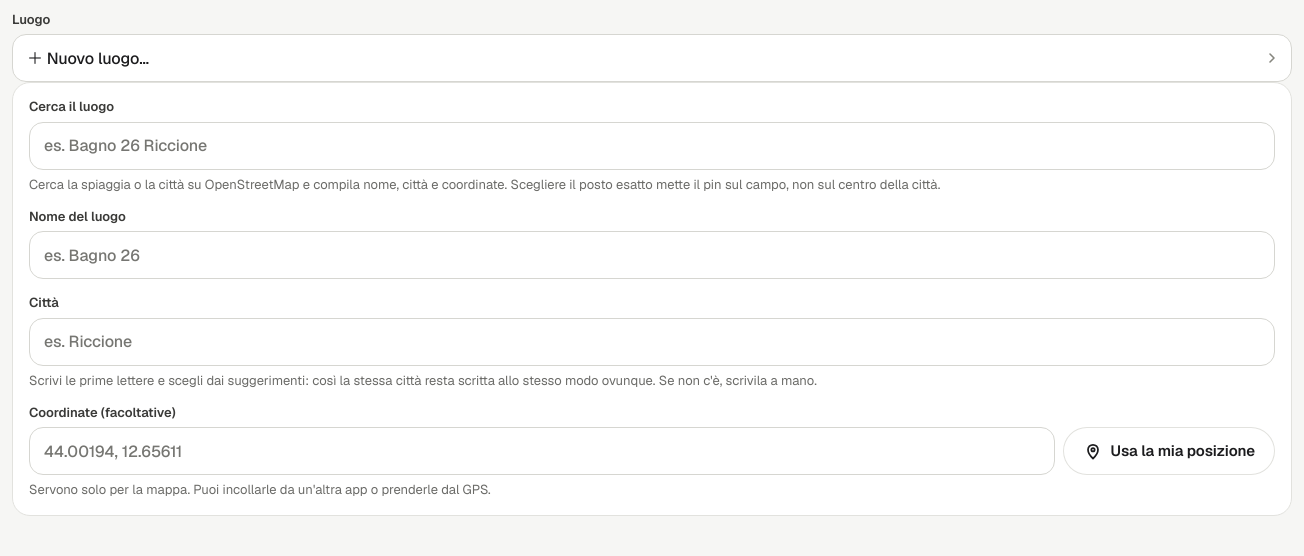
Scenario: VenuePicker — quando la ricerca non funziona › un guasto non blocca il form: restano GPS e campi a mano
The image size is (1304, 556).
Step 1. Type "r" into the search field labelled "Cerca il luogo" → (652, 146), box x1=29 y1=122 x2=1275 y2=170
Step 2. Replace the text in the search field labelled "Cerca il luogo" with "ri" → (652, 146), box x1=29 y1=122 x2=1275 y2=170
Step 3. Replace the text in the search field labelled "Cerca il luogo" with "ric" → (652, 146), box x1=29 y1=122 x2=1275 y2=170
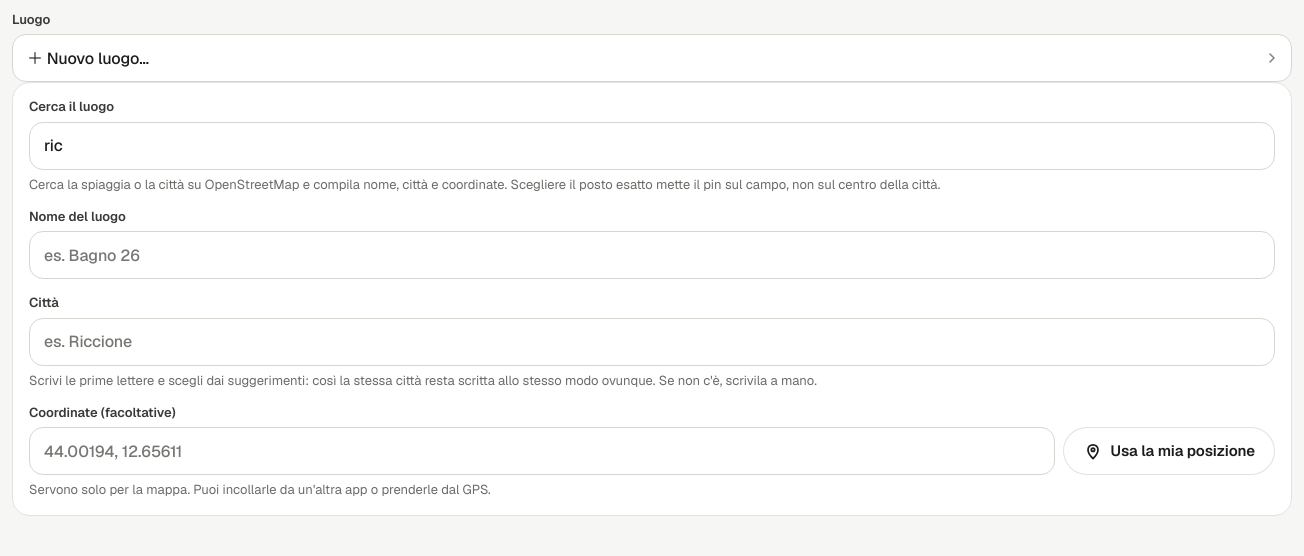
Step 4. Replace the text in the search field labelled "Cerca il luogo" with "ricc" → (652, 146), box x1=29 y1=122 x2=1275 y2=170
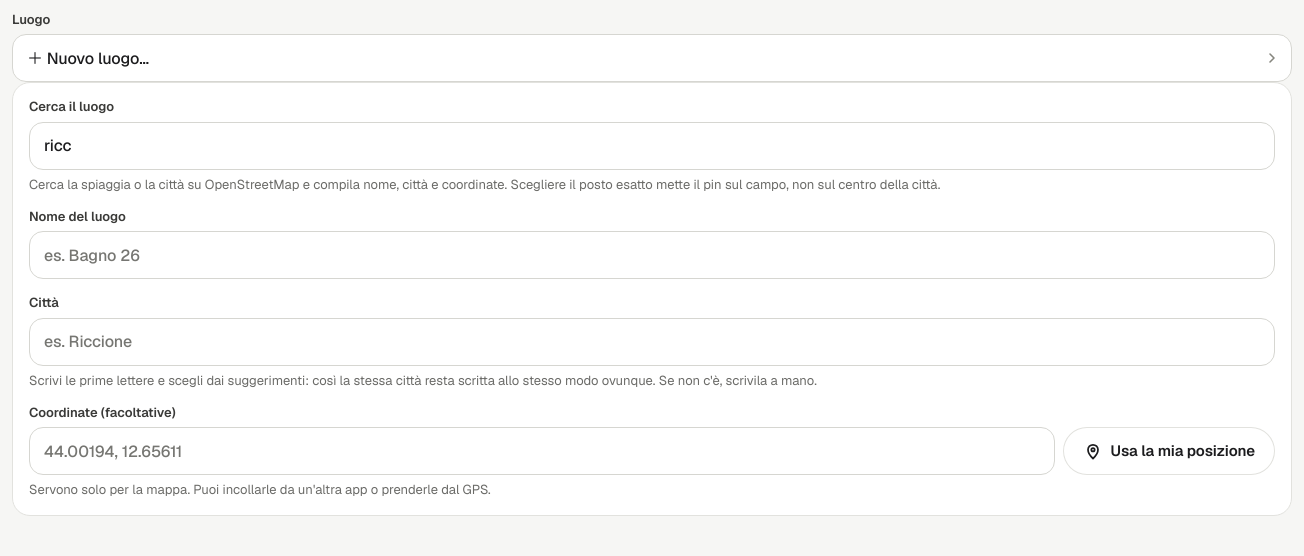
Step 5. Replace the text in the search field labelled "Cerca il luogo" with "ricci" → (652, 146), box x1=29 y1=122 x2=1275 y2=170
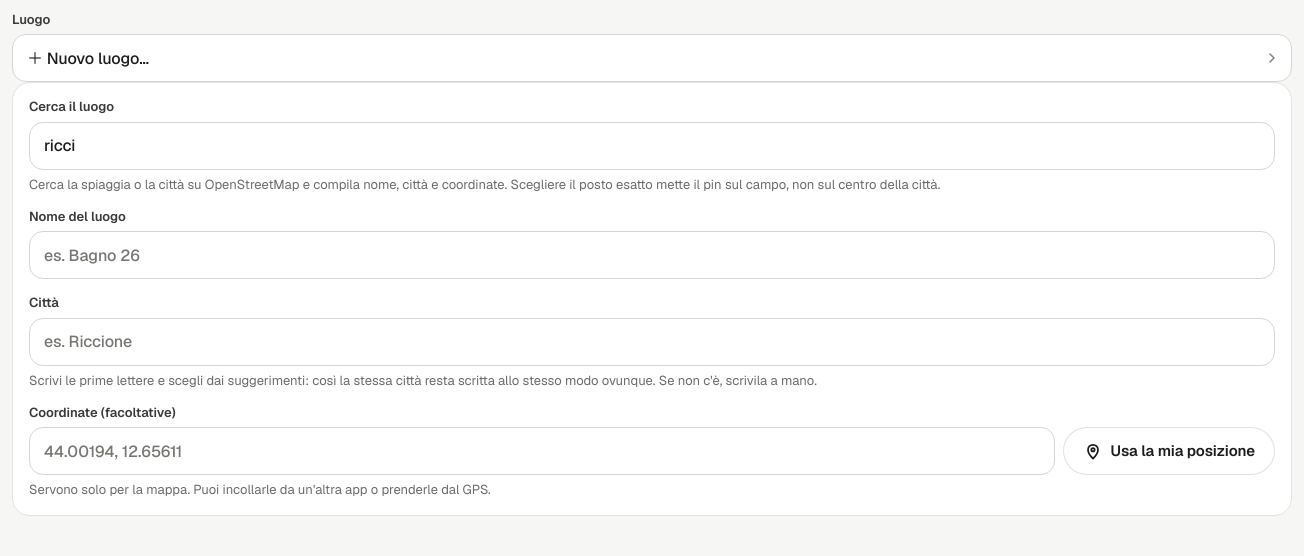
Step 6. Replace the text in the search field labelled "Cerca il luogo" with "riccio" → (652, 146), box x1=29 y1=122 x2=1275 y2=170
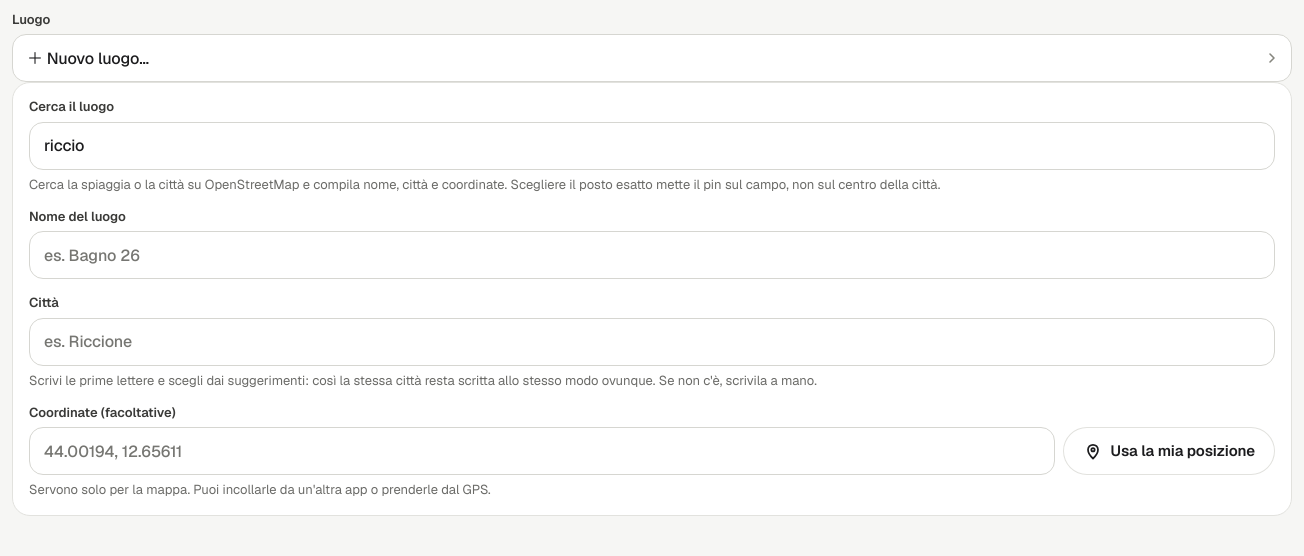
Step 7. Replace the text in the search field labelled "Cerca il luogo" with "riccion" → (652, 146), box x1=29 y1=122 x2=1275 y2=170
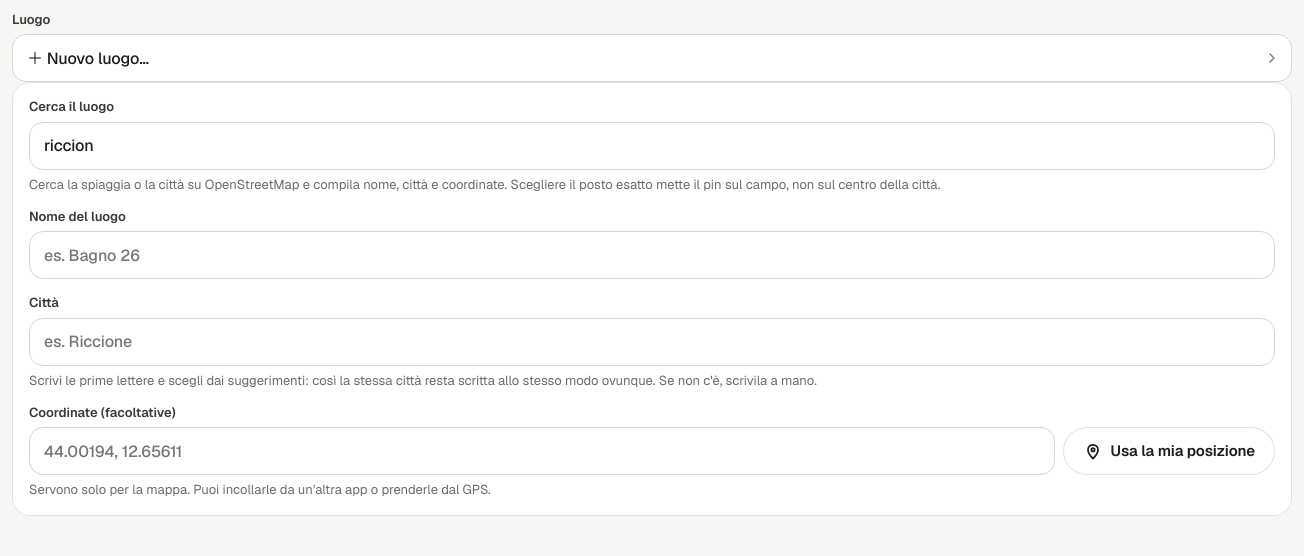
Step 8. Replace the text in the search field labelled "Cerca il luogo" with "riccione" → (652, 146), box x1=29 y1=122 x2=1275 y2=170
Wait 400 ms
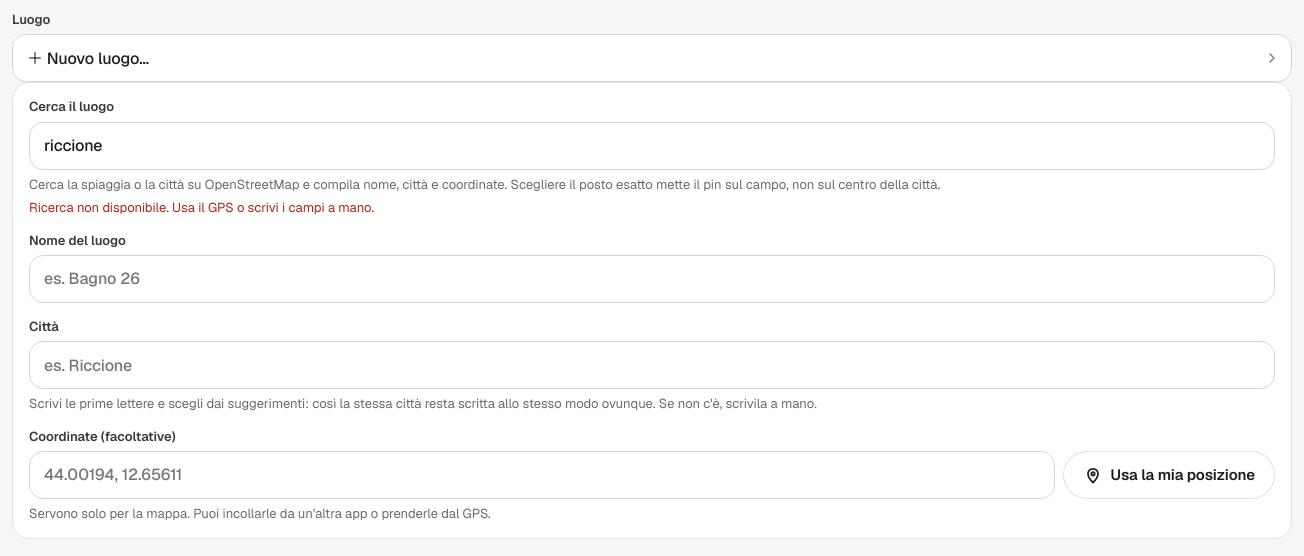
Expected: the field labelled "Nome del luogo" is shown, x1=29 y1=255 x2=1275 y2=303
Expected: the message named "Esito della ricerca del luogo" shows "Ricerca non disponibile", x1=29 y1=199 x2=374 y2=216
